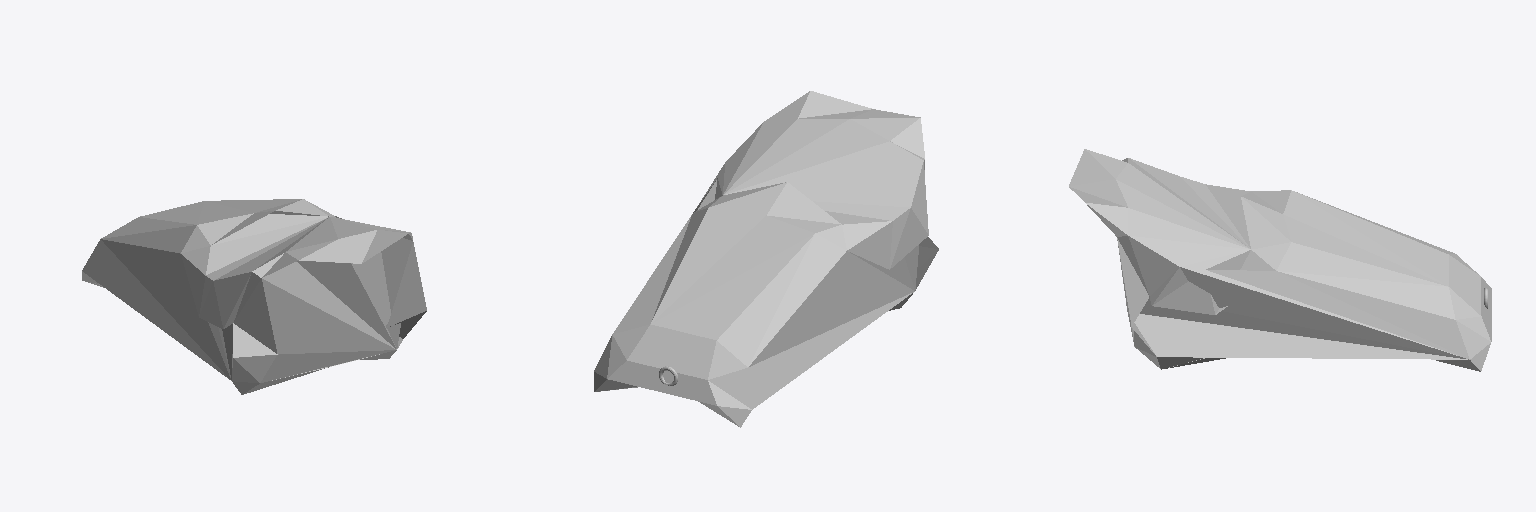
The model's file is testcar3.obj.
The picture shows the model from 3 angles: view 1: azimuth 30°, elevation 25°; view 2: azimuth 150°, elevation 25°; view 3: azimuth 270°, elevation 25°; orthographic projection.
Visible parts, largest first — view 1: Cube.001; view 2: Cube.001; view 3: Cube.001.
Boxes of the visible parts, box(x1,y1,x2,y2) form: Cube.001: box(82, 199, 426, 394); Cube.001: box(594, 91, 938, 427); Cube.001: box(1069, 149, 1491, 371).
Bounding box in the file's own units: 3.84 × 3.04 × 7.24.